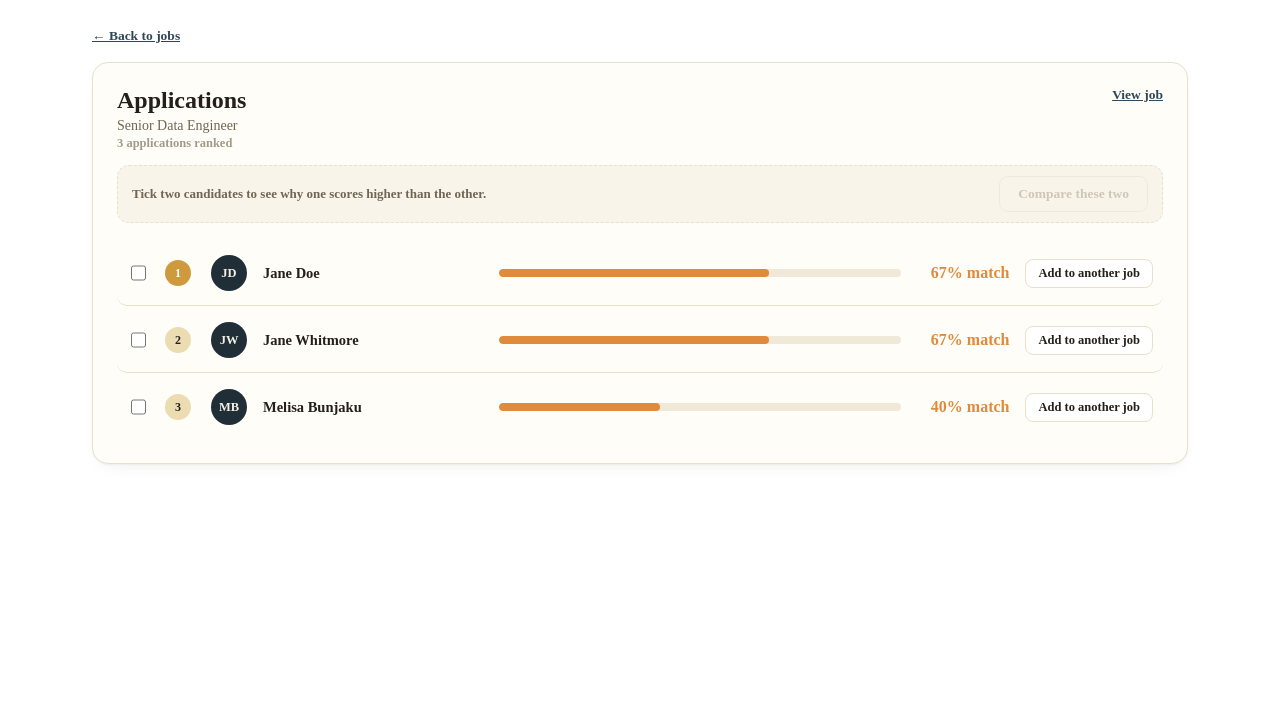
Test case: JobMatchesPage › Add to another job › posts the right body with the newest CV preselected and shows a toast
This screenshot has width=1280, height=720.
Expected: the link "Jane Doe" is shown, [263, 264, 320, 280]
What coordinates should you click on to do the following:
click the 1st button "Add to another job"
I would click on:
 (1089, 273)
Its box is [1026, 258, 1153, 288].
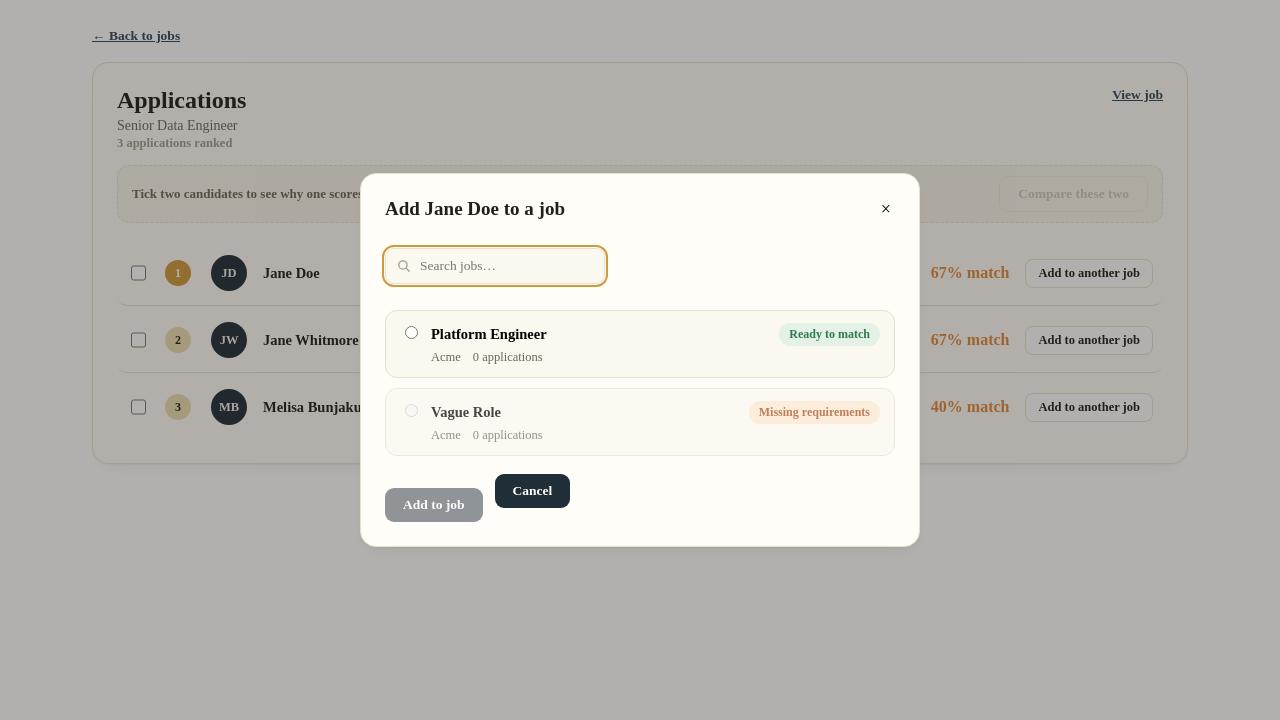
Now the text "Platform Engineer" is shown, box [431, 326, 547, 343]
Now the radio button labelled "Vague Role Missing requirements Acme 0 applications" is disabled, box [405, 404, 418, 417]
What coordinates should you click on to do the following:
click the radio button labelled "Platform Engineer Ready to match Acme 0 applications"
I would click on:
 (412, 332)
Its box is [405, 326, 418, 339].
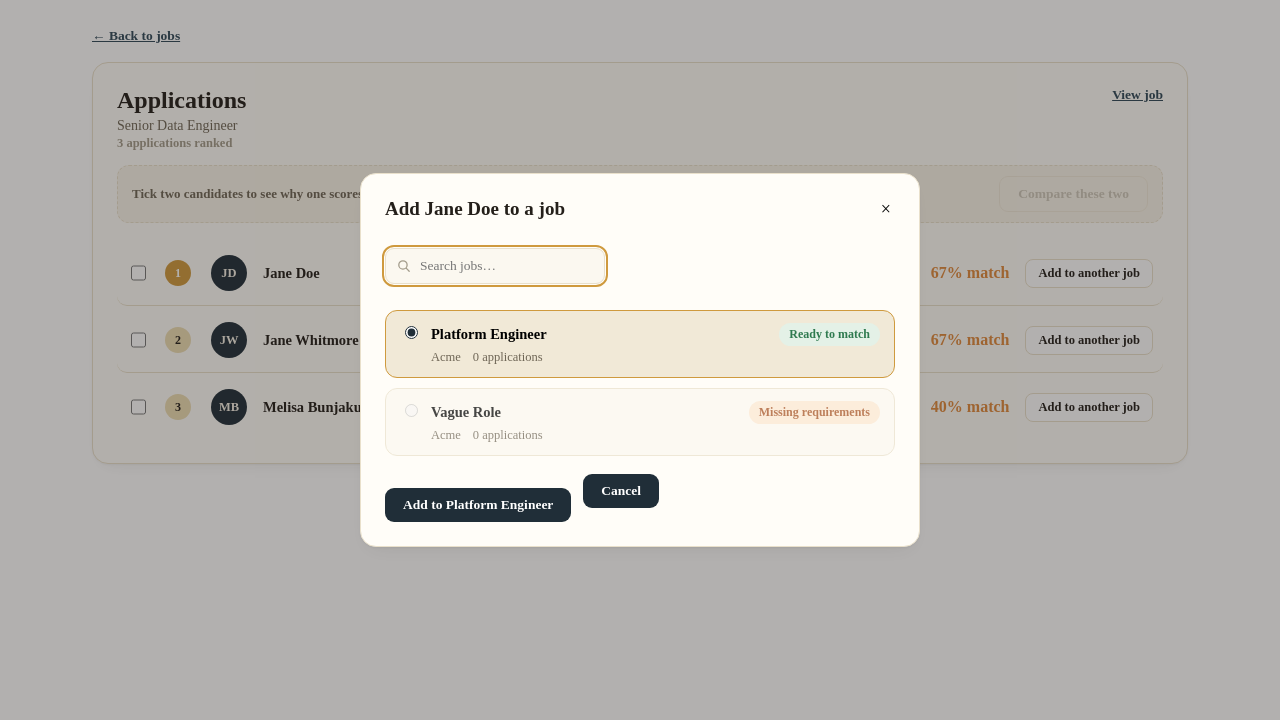
What coordinates should you click on to do the following:
click the button "Add to Platform Engineer"
I would click on:
 (478, 505)
Its box is [385, 488, 571, 522].
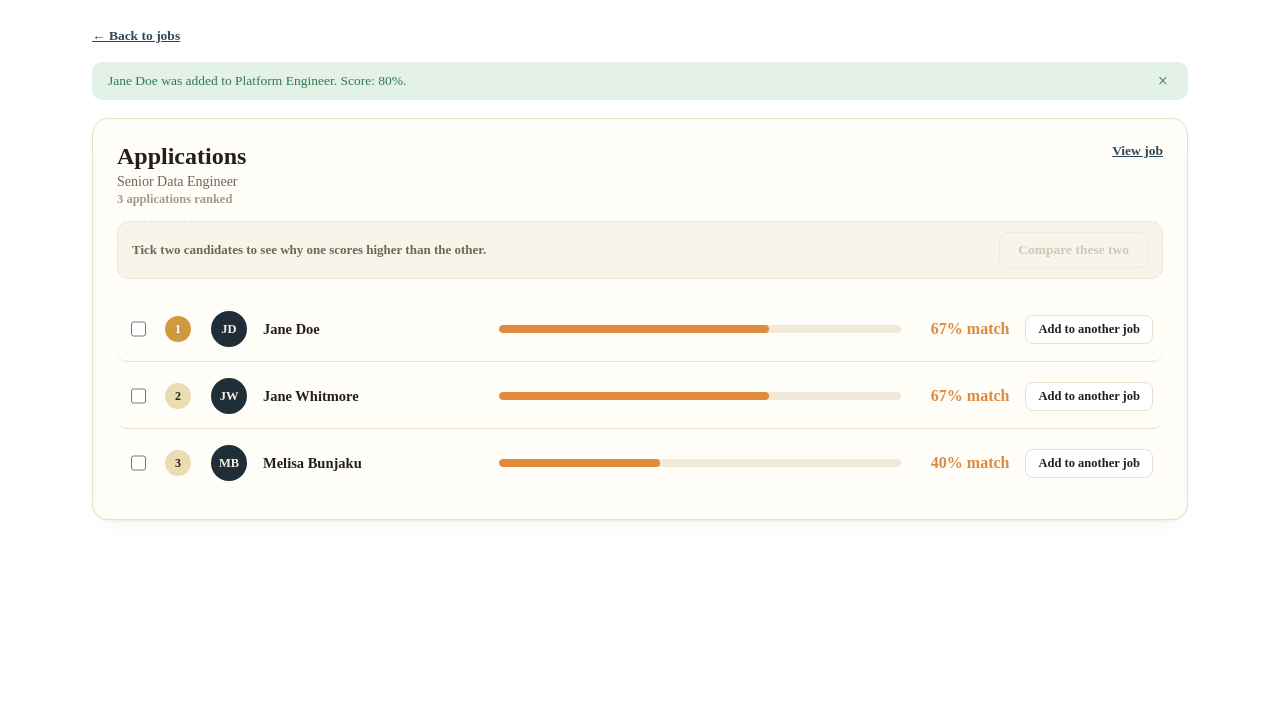
Now the message shows "Jane Doe was added to Platform Engineer. Score: 80%.", box [108, 73, 406, 88]
Now the dialog is gone
